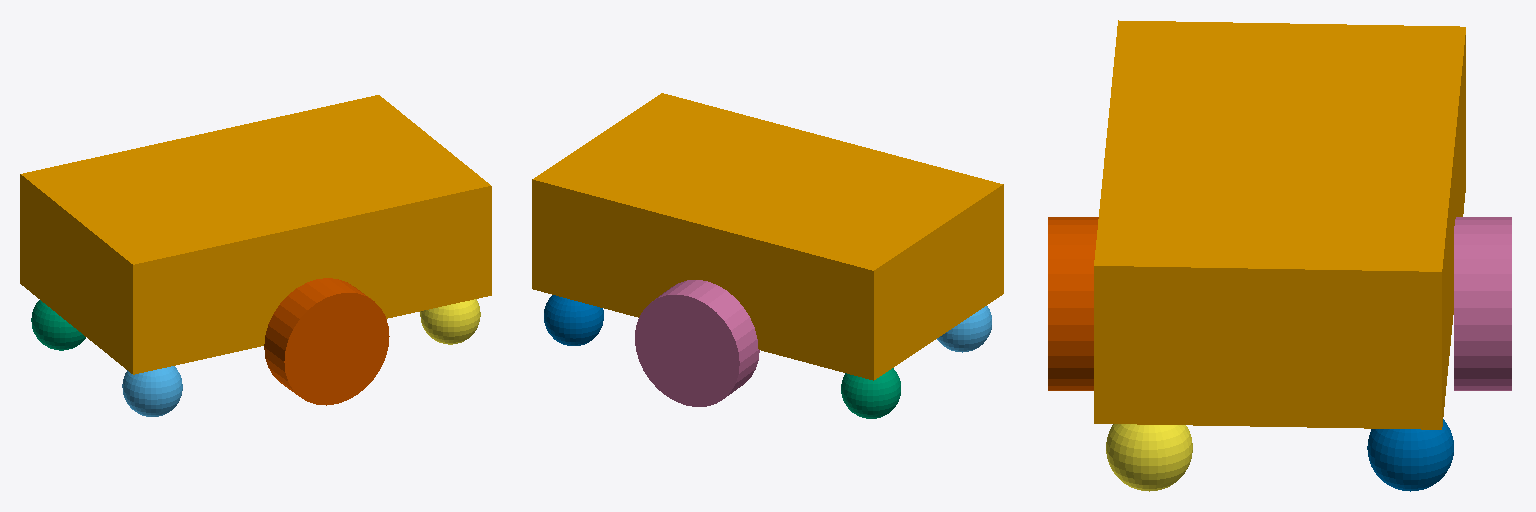
URDF robot description (carA):
<?xml version="1.0" ?>
<robot name="carA">
  <joint name="carA__link_0_JOINT_0" type="fixed">
    <parent link="carA__base_link"/>
    <child link="carA__link_1"/>
    <origin rpy="0  0  0" xyz="-0.42423 -0.22474 -0.1322"/>
    <axis xyz="0  0  0"/>
    <limit effort="0" lower="0" upper="0" velocity="0"/>
  </joint>

  <joint name="carA__link_0_JOINT_1" type="fixed">
    <parent link="carA__base_link"/>
    <child link="carA__link_1_clone"/>
    <origin rpy="0  0  0" xyz="-0.42423  0.22525 -0.1322"/>
    <axis xyz="0  0  0"/>
    <limit effort="0" lower="0" upper="0" velocity="0"/>
  </joint>

  <joint name="carA__link_0_JOINT_2" type="fixed">
    <parent link="carA__base_link"/>
    <child link="carA__link_1_clone_0"/>
    <origin rpy="0  0  0" xyz="0.42576 -0.22474 -0.1322"/>
    <axis xyz="0  0  0"/>
    <limit effort="0" lower="0" upper="0" velocity="0"/>
  </joint>

  <joint name="carA__link_0_JOINT_3" type="fixed">
    <parent link="carA__base_link"/>
    <child link="carA__link_1_clone_1"/>
    <origin rpy="0  0  0" xyz="0.42576  0.22525 -0.1322"/>
    <axis xyz="0  0  0"/>
    <limit effort="0" lower="0" upper="0" velocity="0"/>
  </joint>

  <joint name="carA__link_0_JOINT_4" type="continuous">
    <parent link="carA__base_link"/>
    <child link="carA__left_wheel"/>
    <origin rpy="1.5707  0      0" xyz="0.00076 -0.35 -0.0572"/>
    <axis xyz="1  0  0"/>
    <limit effort="-1.0" lower="-1.79769e+308" upper="1.79769e+308" velocity="-1.0"/>
  </joint>

  <joint name="carA__link_0_JOINT_5" type="continuous">
    <parent link="carA__base_link"/>
    <child link="carA__right_wheel"/>
    <origin rpy="1.5707  0      0" xyz="0.00076  0.35 -0.0572"/>
    <axis xyz="1  0  0"/>
    <limit effort="-1.0" lower="-1.79769e+308" upper="1.79769e+308" velocity="-1.0"/>
  </joint>
  
  <link name="carA__base_link">
    <inertial>
      <mass value="10"/>
      <origin rpy="0  0  0" xyz="0  0  0"/>
      <inertia ixx="1.66667" ixy="0" ixz="0" iyy="1.66667" iyz="0" izz="1.66667"/>
    </inertial>
    <collision name="carA__collision">
      <origin rpy="0       0      -0.04158" xyz="0.00076  0.00025  0.09279"/>
      <geometry>
        <box size="1 0.6 0.3"/>
      </geometry>
    </collision>
    <visual name="carA__visual">
      <origin rpy="0       0      -0.04158" xyz="0.00076  0.00025  0.09279"/>
      <geometry>
        <box size="1 0.6 0.3"/>
      </geometry>
    </visual>
  </link>

  <link name="carA__link_1">
    <inertial>
      <mass value="1"/>
      <origin rpy="0  0  0" xyz="0  0  0"/>
      <inertia ixx="0.1" ixy="0" ixz="0" iyy="0.1" iyz="0" izz="0.1"/>
    </inertial>
    <collision name="carA__collision">
      <origin rpy="0  0  0" xyz="0  0  0"/>
      <geometry>
        <sphere radius="0.075"/>
      </geometry>
    </collision>
    <visual name="carA__visual">
      <origin rpy="0  0  0" xyz="0  0  0"/>
      <geometry>
        <sphere radius="0.075"/>
      </geometry>
    </visual>
  </link>

  <link name="carA__link_1_clone">
    <inertial>
      <mass value="1"/>
      <origin rpy="0  0  0" xyz="0  0  0"/>
      <inertia ixx="0.1" ixy="0" ixz="0" iyy="0.1" iyz="0" izz="0.1"/>
    </inertial>
    <collision name="carA__collision">
      <origin rpy="0  0  0" xyz="0  0  0"/>
      <geometry>
        <sphere radius="0.075"/>
      </geometry>
    </collision>
    <visual name="carA__visual">
      <origin rpy="0  0  0" xyz="0  0  0"/>
      <geometry>
        <sphere radius="0.075"/>
      </geometry>
    </visual>
  </link>

  <link name="carA__link_1_clone_0">
    <inertial>
      <mass value="1"/>
      <origin rpy="0  0  0" xyz="0  0  0"/>
      <inertia ixx="0.1" ixy="0" ixz="0" iyy="0.1" iyz="0" izz="0.1"/>
    </inertial>
    <collision name="carA__collision">
      <origin rpy="0  0  0" xyz="0  0  0"/>
      <geometry>
        <sphere radius="0.075"/>
      </geometry>
    </collision>
    <visual name="carA__visual">
      <origin rpy="0  0  0" xyz="0  0  0"/>
      <geometry>
        <sphere radius="0.075"/>
      </geometry>
    </visual>
  </link>

  <link name="carA__link_1_clone_1">
    <inertial>
      <mass value="1"/>
      <origin rpy="0  0  0" xyz="0  0  0"/>
      <inertia ixx="0.1" ixy="0" ixz="0" iyy="0.1" iyz="0" izz="0.1"/>
    </inertial>
    <collision name="carA__collision">
      <origin rpy="0  0  0" xyz="0  0  0"/>
      <geometry>
        <sphere radius="0.075"/>
      </geometry>
    </collision>
    <visual name="carA__visual">
      <origin rpy="0  0  0" xyz="0  0  0"/>
      <geometry>
        <sphere radius="0.075"/>
      </geometry>
    </visual>
  </link>

  <link name="carA__left_wheel">
    <inertial>
      <mass value="0.1"/>
      <origin rpy="0  0  0" xyz="0  0  0"/>
      <inertia ixx="0.145833" ixy="0" ixz="0" iyy="0.145833" iyz="0" izz="0.125"/>
    </inertial>
    <collision name="carA__collision">
      <origin rpy="0  0  0" xyz="0  0  0"/>
      <geometry>
        <cylinder length="0.1" radius="0.15"/>
      </geometry>
    </collision>
    <visual name="carA__visual">
      <origin rpy="0  0  0" xyz="0  0  0"/>
      <geometry>
        <cylinder length="0.1" radius="0.15"/>
      </geometry>
    </visual>
  </link>

  <link name="carA__right_wheel">
    <inertial>
      <mass value="0.1"/>
      <origin rpy="0  0  0" xyz="0  0  0"/>
      <inertia ixx="0.145833" ixy="0" ixz="0" iyy="0.145833" iyz="0" izz="0.125"/>
    </inertial>
    <collision name="carA__collision">
      <origin rpy="0  0  0" xyz="0  0  0"/>
      <geometry>
        <cylinder length="0.1" radius="0.15"/>
      </geometry>
    </collision>
    <visual name="carA__visual">
      <origin rpy="0  0  0" xyz="0  0  0"/>
      <geometry>
        <cylinder length="0.1" radius="0.15"/>
      </geometry>
    </visual>
  </link>


  
</robot>

--- Facts derived from the render (not from the file) ---
3 views of the same robot in one strip: view 1: azimuth 30°, elevation 25°; view 2: azimuth 150°, elevation 25°; view 3: azimuth 270°, elevation 25° (orthographic).
Robot: carA — 7 links, 6 joints (2 continuous, 4 fixed); root link carA__base_link; default pose: all joints at 0.
Visible links, largest first — view 1: carA__base_link, carA__left_wheel, carA__link_1, carA__link_1_clone_0, carA__link_1_clone; view 2: carA__base_link, carA__right_wheel, carA__link_1_clone_1, carA__link_1_clone, carA__link_1; view 3: carA__base_link, carA__right_wheel, carA__left_wheel, carA__link_1_clone_0, carA__link_1_clone_1.
Boxes of the visible links, x1,y1,x2,y2 form: carA__base_link: (20, 95, 491, 374); carA__left_wheel: (264, 278, 389, 405); carA__link_1: (122, 366, 182, 416); carA__link_1_clone_0: (420, 299, 480, 344); carA__link_1_clone: (31, 300, 85, 350); carA__base_link: (532, 93, 1003, 380); carA__right_wheel: (635, 280, 759, 406); carA__link_1_clone_1: (544, 295, 603, 345); carA__link_1_clone: (841, 368, 900, 418); carA__link_1: (937, 306, 991, 352); carA__base_link: (1094, 20, 1465, 429); carA__right_wheel: (1454, 217, 1511, 390); carA__left_wheel: (1048, 217, 1098, 390); carA__link_1_clone_0: (1106, 424, 1192, 491); carA__link_1_clone_1: (1367, 419, 1453, 491).
Size in the robot's own frame: 1.02 by 0.8 by 0.45 metres.
Geometry: primitives only (box / cylinder / sphere), no mesh files.